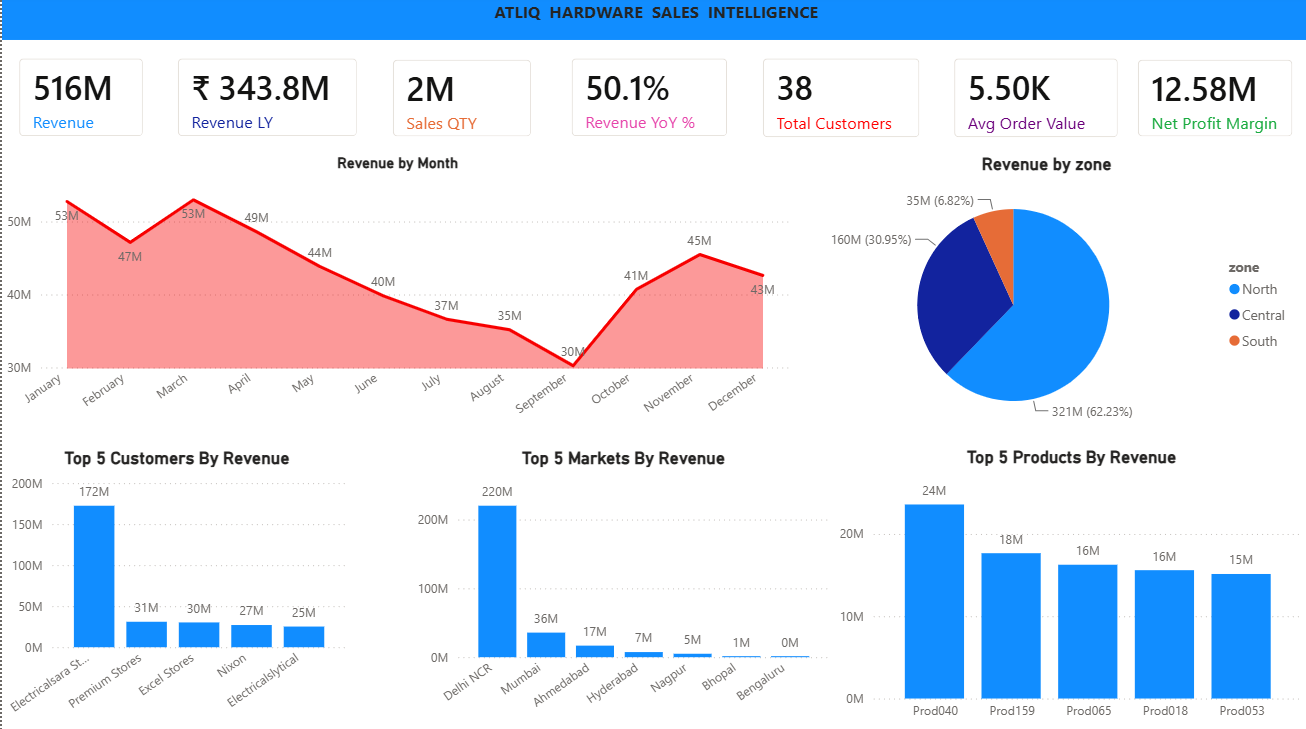

The page's visual inventory and layout, read from the dashboard file:
{"tool":"powerbi","page":{"name":"Executive Summary","canvas":[1280,720],"ordinal":0},"visuals":[{"type":"textbox","box":[0,0,1280.3,44],"z":0},{"type":"cardVisual","fields":{"Data":["BaseMeasures.Revenue"]},"box":[0,45.1,155.5,110.5],"z":1000},{"type":"cardVisual","fields":{"Data":["BaseMeasures.Sales QTY"]},"box":[365.2,46.2,169.1,109.3],"z":2000},{"type":"cardVisual","fields":{"Data":["BaseMeasures.Net Profit Margin"]},"box":[1094.4,46.2,186,109.3],"z":3000},{"type":"cardVisual","fields":{"Data":["BaseMeasures.Revenue YoY %"]},"box":[540.5,45.5,187,110.3],"z":4000},{"type":"cardVisual","fields":{"Data":["BaseMeasures.Total Customers"]},"box":[727.2,44.7,187.6,111.1],"z":5000},{"type":"areaChart","fields":{"Category":["sales date.date.Variation.Date Hierarchy.Year","sales date.date.Variation.Date Hierarchy.Quarter","sales date.date.Variation.Date Hierarchy.Month","sales date.date.Variation.Date Hierarchy.Day"],"Y":["BaseMeasures.Revenue"]},"box":[0,155.5,774.3,277.3],"z":6000},{"type":"pieChart","fields":{"Y":["BaseMeasures.Revenue"],"Category":["sales markets.zone"]},"box":[774.3,155.5,495.9,277.3],"z":7000},{"type":"columnChart","title":"Top 5 Customers By Revenue","fields":{"Y":["BaseMeasures.Revenue"],"Category":["sales customers.custmer_name"]},"box":[0,442.7,342.4,277.6],"z":8000},{"type":"columnChart","title":"Top 5 Markets By Revenue","fields":{"Y":["BaseMeasures.Revenue"],"Category":["sales markets.markets_name"]},"box":[401.1,442.3,413.9,277.3],"z":9000},{"type":"columnChart","title":"Top 5 Products By Revenue","fields":{"Category":["sales products.product_code"],"Y":["BaseMeasures.Revenue"]},"box":[815,442,464,277],"z":10000},{"type":"cardVisual","fields":{"Data":["BaseMeasures.Avg Order Value"]},"box":[914.7,44.7,194.8,111.1],"z":11000},{"type":"cardVisual","fields":{"Data":["BaseMeasures.Revenue LY"]},"box":[155.5,45.1,209.6,110.5],"z":12000}]}

Visuals, with their boxes in screenshot pixels (x1, y1, x2, y2), scaled from the page's 1280x720 canvas onto the 1306x729 screenshot:
textbox: {"left": 0, "top": 0, "right": 1305, "bottom": 45}
cardVisual - BaseMeasures.Revenue: {"left": 0, "top": 46, "right": 159, "bottom": 158}
cardVisual - BaseMeasures.Sales QTY: {"left": 373, "top": 47, "right": 545, "bottom": 157}
cardVisual - BaseMeasures.Net Profit Margin: {"left": 1117, "top": 47, "right": 1305, "bottom": 157}
cardVisual - BaseMeasures.Revenue YoY %: {"left": 551, "top": 46, "right": 742, "bottom": 158}
cardVisual - BaseMeasures.Total Customers: {"left": 742, "top": 45, "right": 933, "bottom": 158}
areaChart - sales date.date.Variation.Date Hierarchy.Year x sales date.date.Variation.Date Hierarchy.Quarter: {"left": 0, "top": 157, "right": 790, "bottom": 438}
pieChart - BaseMeasures.Revenue x sales markets.zone: {"left": 790, "top": 157, "right": 1296, "bottom": 438}
"Top 5 Customers By Revenue" columnChart: {"left": 0, "top": 448, "right": 349, "bottom": 728}
"Top 5 Markets By Revenue" columnChart: {"left": 409, "top": 448, "right": 832, "bottom": 728}
"Top 5 Products By Revenue" columnChart: {"left": 832, "top": 448, "right": 1305, "bottom": 728}
cardVisual - BaseMeasures.Avg Order Value: {"left": 933, "top": 45, "right": 1132, "bottom": 158}
cardVisual - BaseMeasures.Revenue LY: {"left": 159, "top": 46, "right": 373, "bottom": 158}
